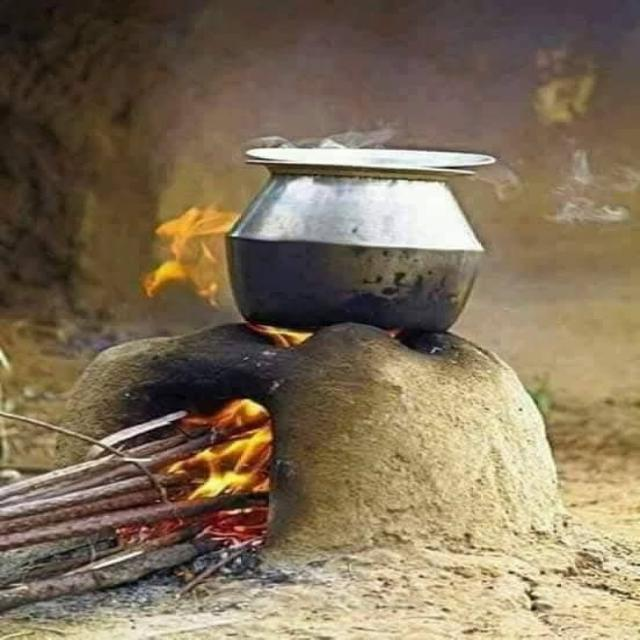fire: (168, 399, 270, 500), (144, 205, 234, 310), (115, 500, 268, 549), (253, 327, 312, 351)
